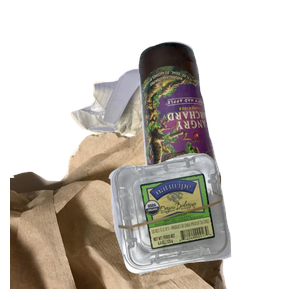glass: (136, 39, 300, 219)
paper: (68, 66, 215, 197)
plastic: (106, 151, 300, 300)
trash: (10, 120, 229, 300)
